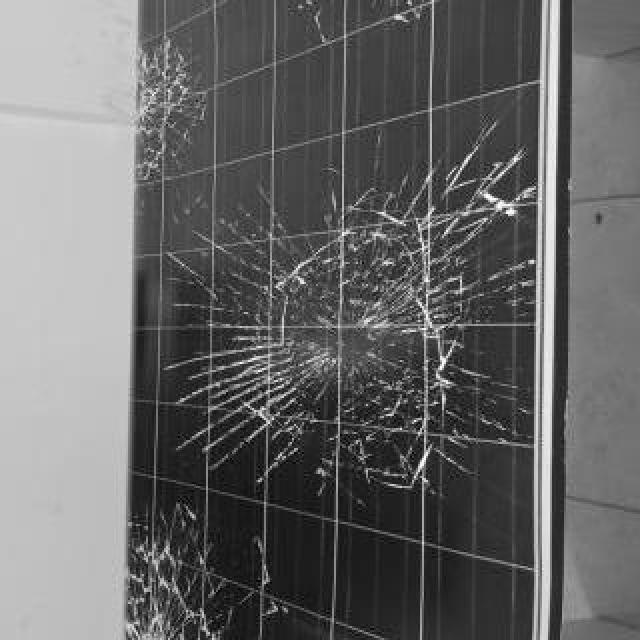Physical-damage: (202, 219, 542, 475), (136, 30, 238, 210), (132, 504, 267, 640)
